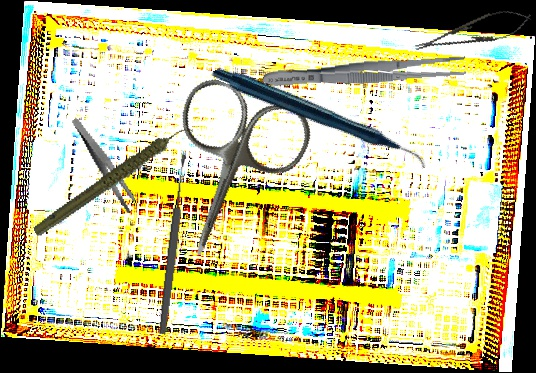Dressing Forceps: (261, 52, 467, 93), (71, 109, 139, 221)
Handpiece: (210, 2, 428, 237), (18, 123, 210, 239)
Iris Scissors: (135, 72, 320, 278)
Needle Holder: (411, 2, 535, 62)
Surgical Spoon: (157, 154, 190, 335)
